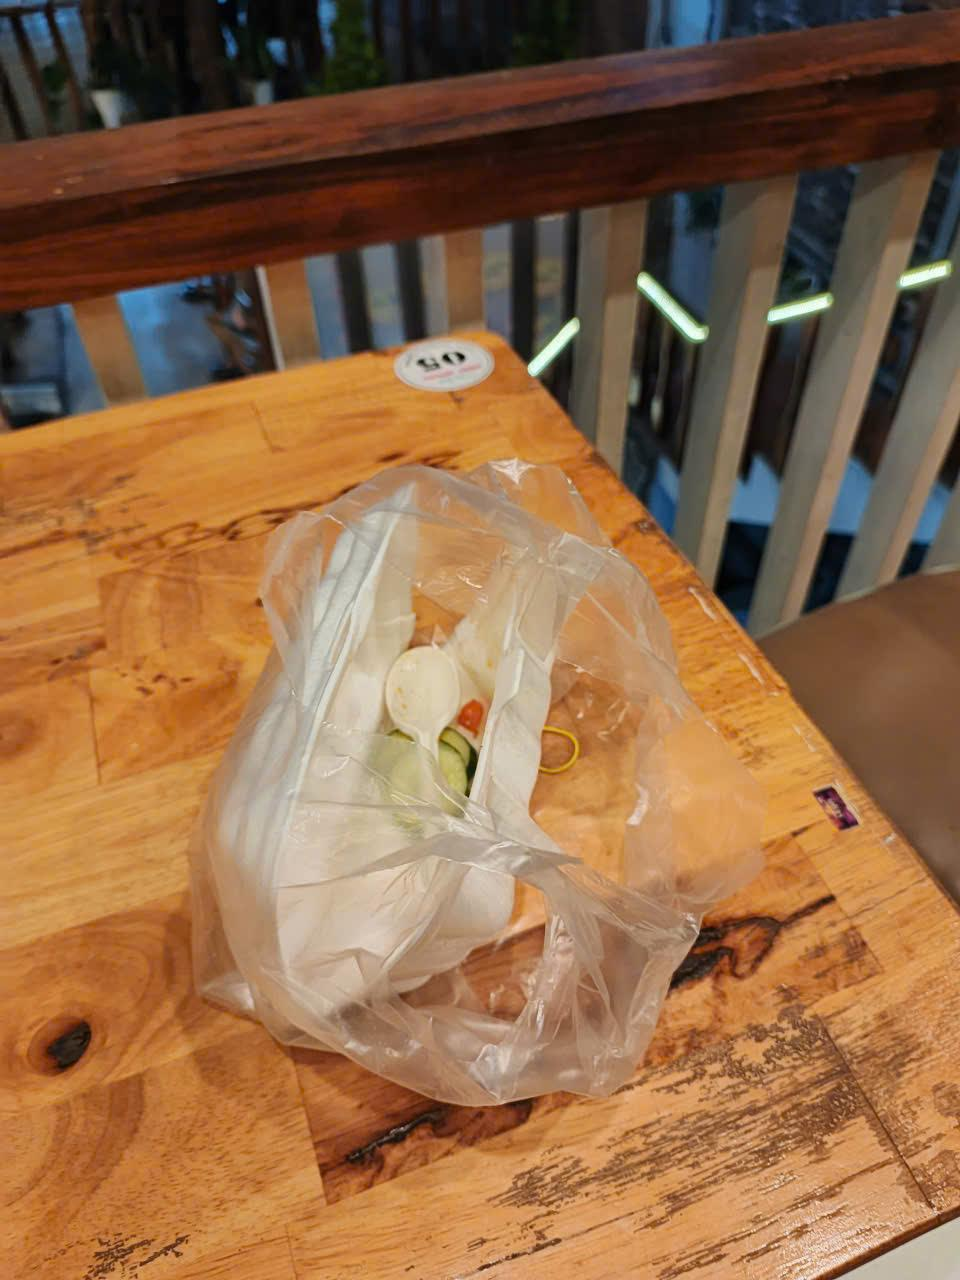Con lai: (220, 476, 742, 1107)
